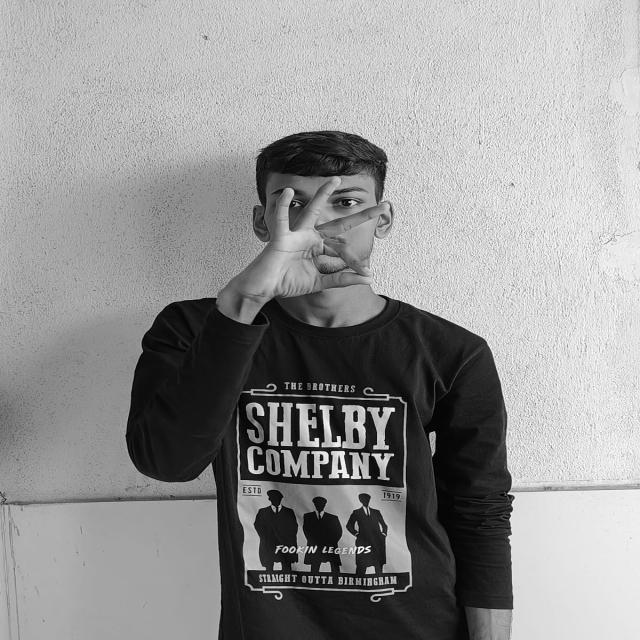Superb: (260, 175, 385, 301)
